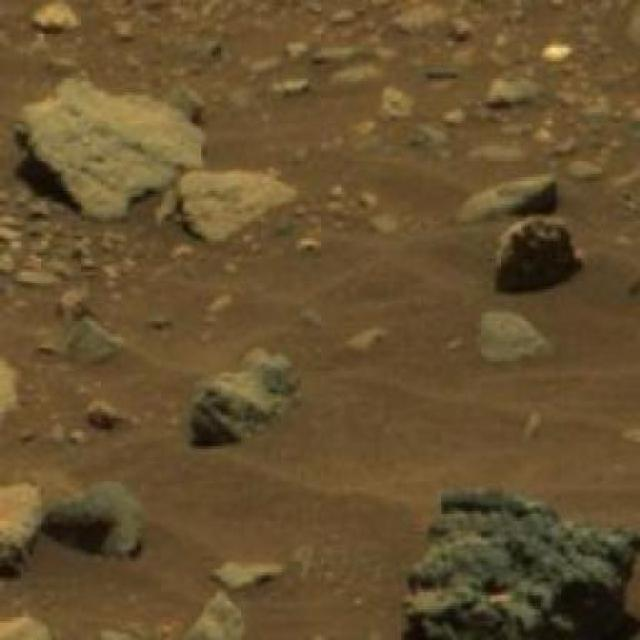rock: (399, 485, 638, 638), (21, 73, 204, 218), (496, 223, 584, 297), (0, 303, 25, 425)
